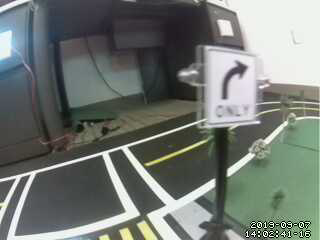Right_only_sign: (202, 48, 261, 124)
